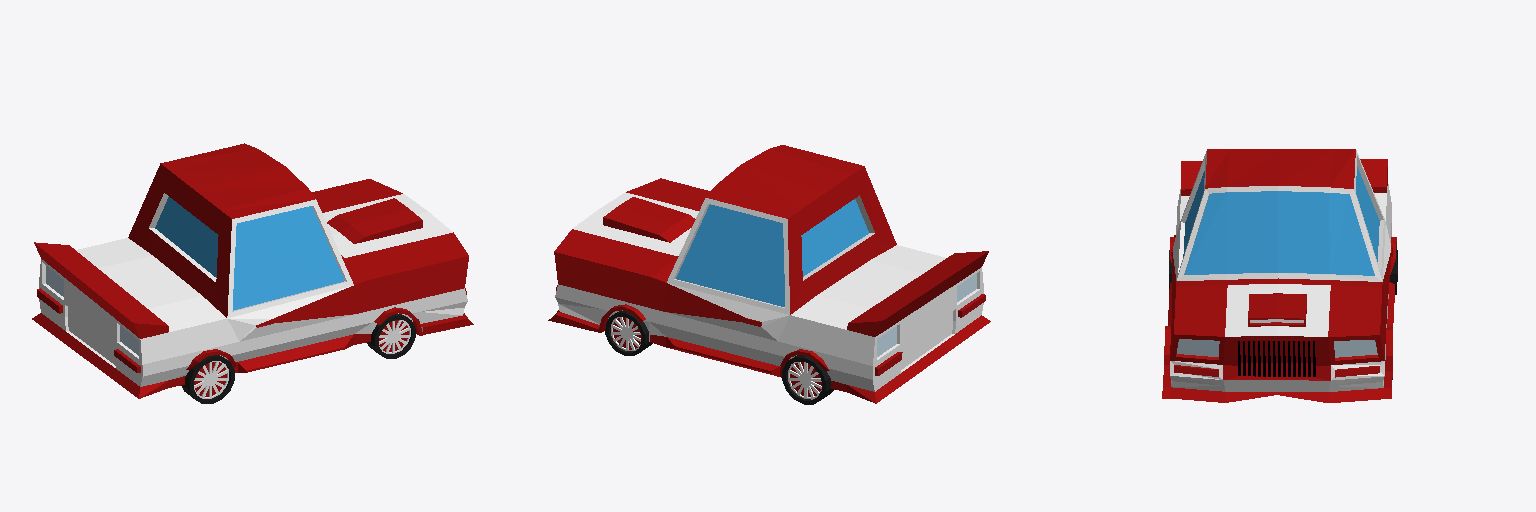
The model's file is race_car.obj.
The picture shows the model from 3 angles: view 1: azimuth 30°, elevation 25°; view 2: azimuth 150°, elevation 25°; view 3: azimuth 270°, elevation 25°; orthographic projection.
Visible parts, largest first — view 1: body_ID56, wheel.1_ID84, wheel1.1_ID93, backlight_ID75; view 2: body_ID56, wheel.1_ID84, wheel1.1_ID93, backlight_ID75; view 3: body_ID56, lattice.1_ID29, headlight_ID66, front_fender_ID47.
Boxes of the visible parts, box(x1,y1,x2,y2) form: body_ID56: box(32, 143, 473, 398); wheel.1_ID84: box(181, 355, 234, 403); wheel1.1_ID93: box(367, 314, 415, 358); backlight_ID75: box(46, 266, 138, 355); body_ID56: box(548, 145, 990, 403); wheel.1_ID84: box(782, 355, 833, 404); wheel1.1_ID93: box(605, 311, 652, 355); backlight_ID75: box(877, 273, 976, 356); body_ID56: box(1162, 149, 1394, 402); lattice.1_ID29: box(1238, 341, 1315, 376); headlight_ID66: box(1177, 339, 1377, 357); front_fender_ID47: box(1164, 326, 1392, 370).
Bounding box in the file's own units: 2.38 × 1.11 × 1.41.